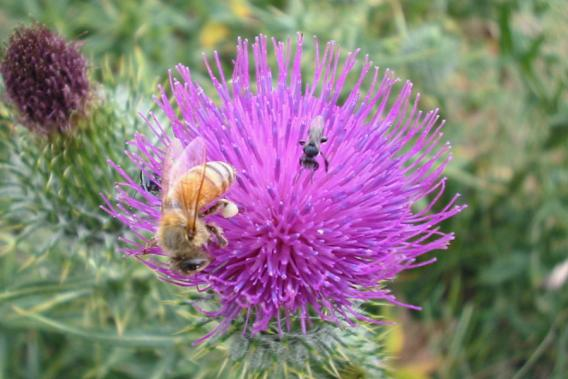thistle: (101, 31, 449, 374)
